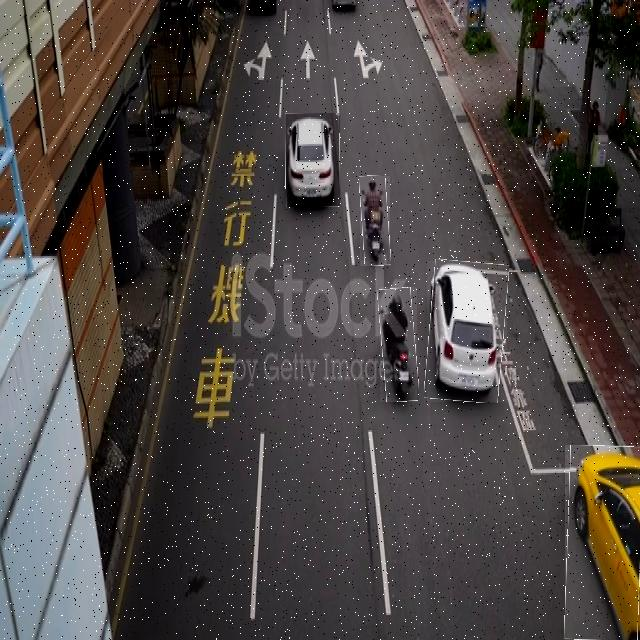Car: (565, 445, 640, 640), (427, 261, 507, 402), (286, 113, 340, 207)
Motorcycle: (380, 287, 417, 402), (360, 176, 390, 266)
